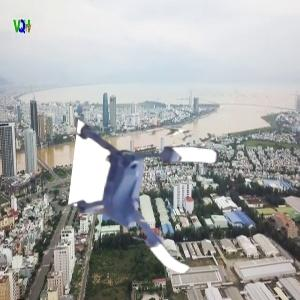drone: (70, 126, 222, 278)
